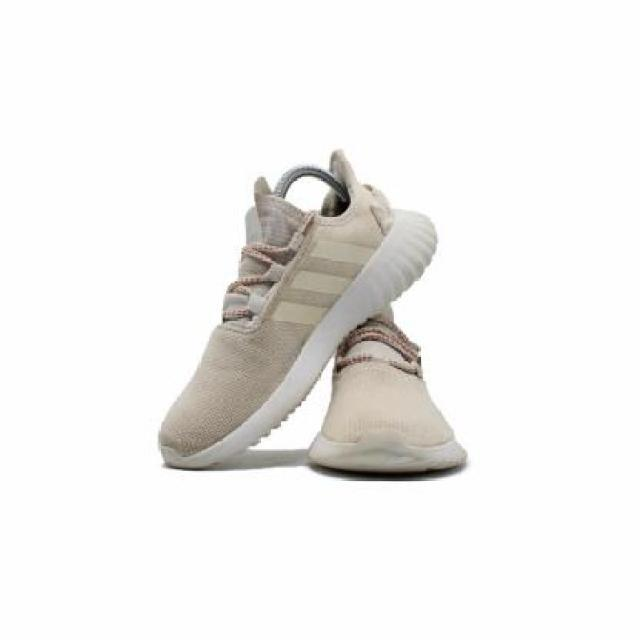Adidas: (264, 231, 378, 342)
